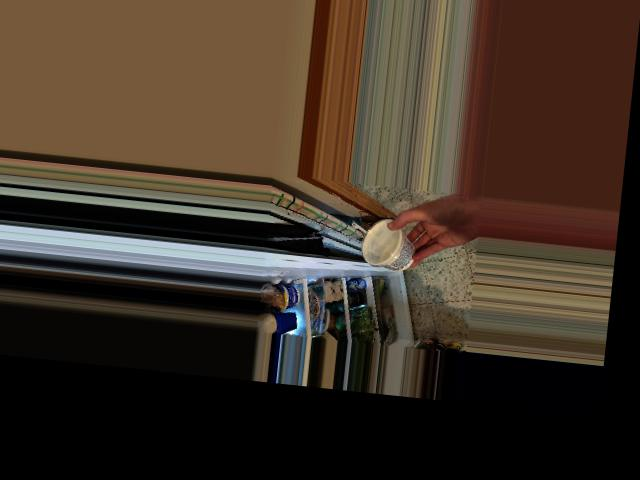cotage: (361, 211, 423, 271)
